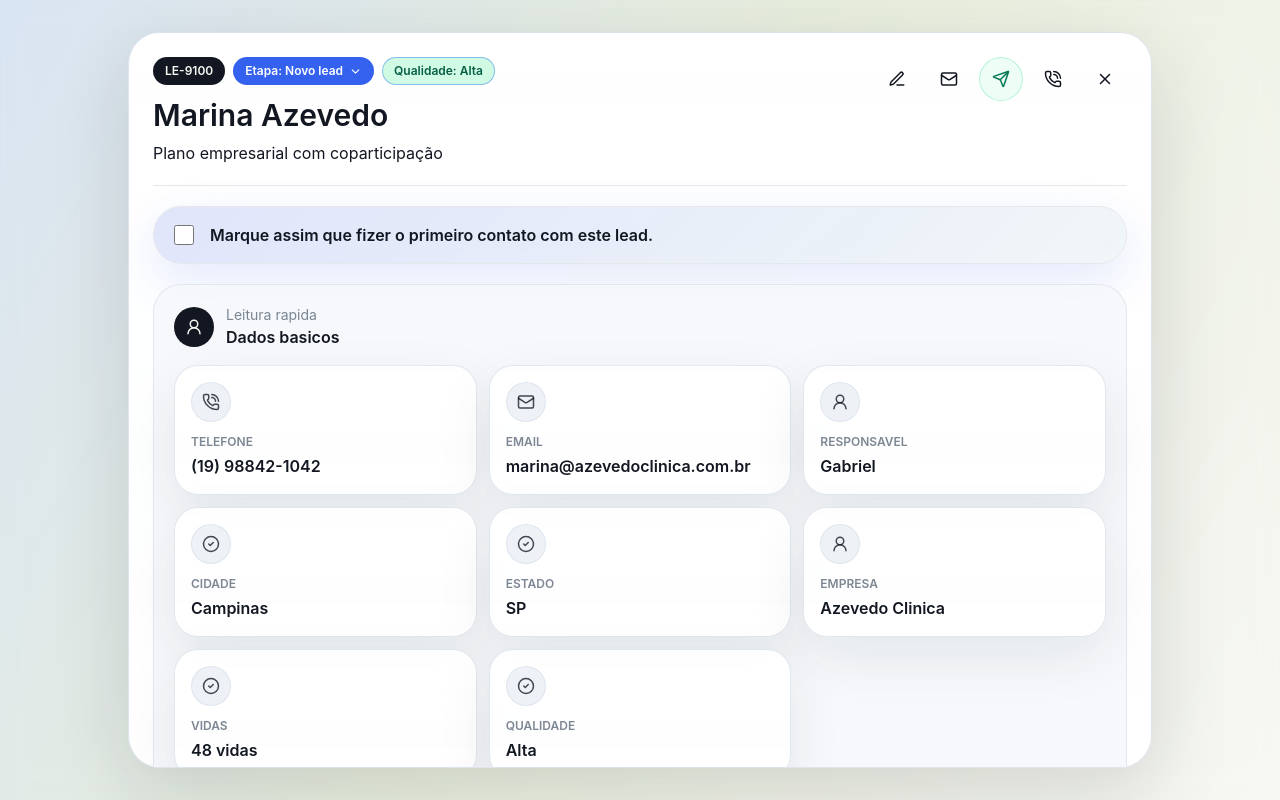
it: LeadDetailsPopup › permite confirmar o primeiro contato pela caixa destacada
This screenshot has width=1280, height=800.
Click the checkbox: click(184, 235) [174,225,194,245]
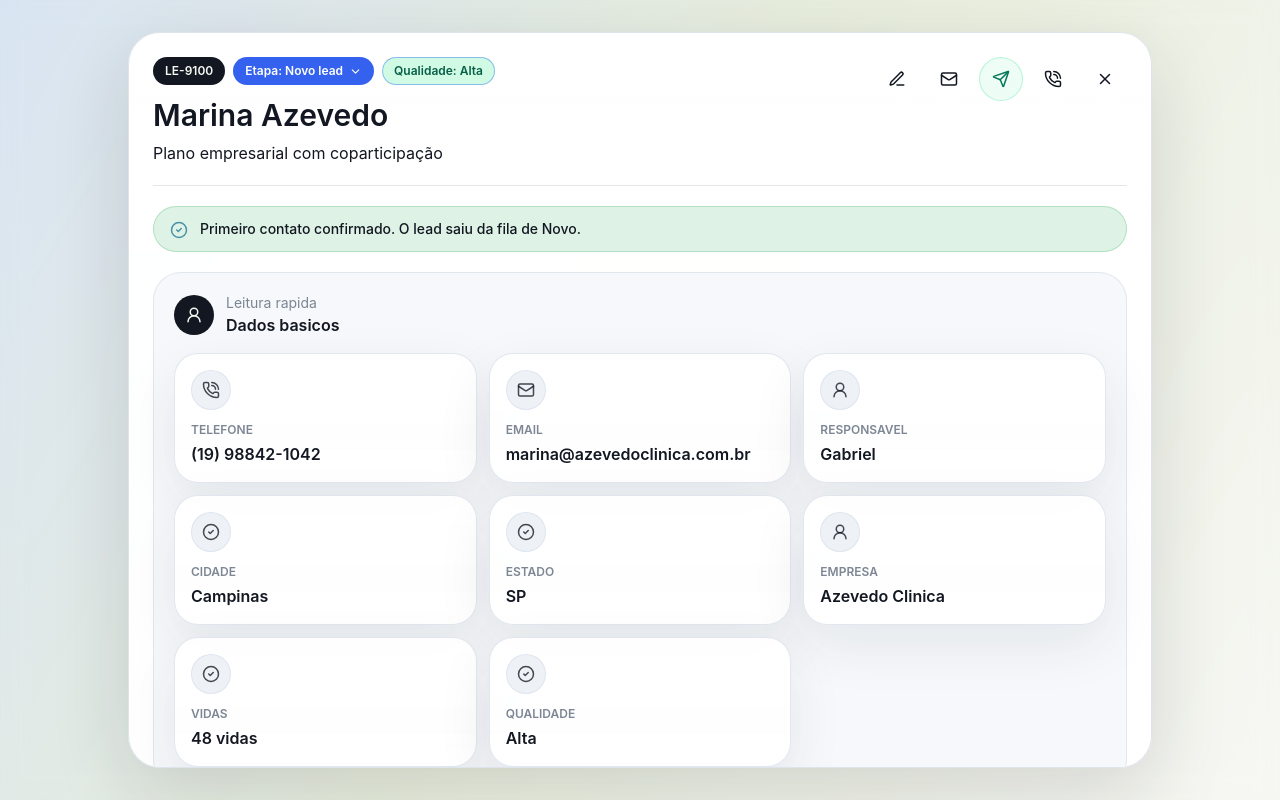
Expected: the text "Primeiro contato confirmado. O lead saiu da fila de Novo." is shown, [200,219,581,239]
